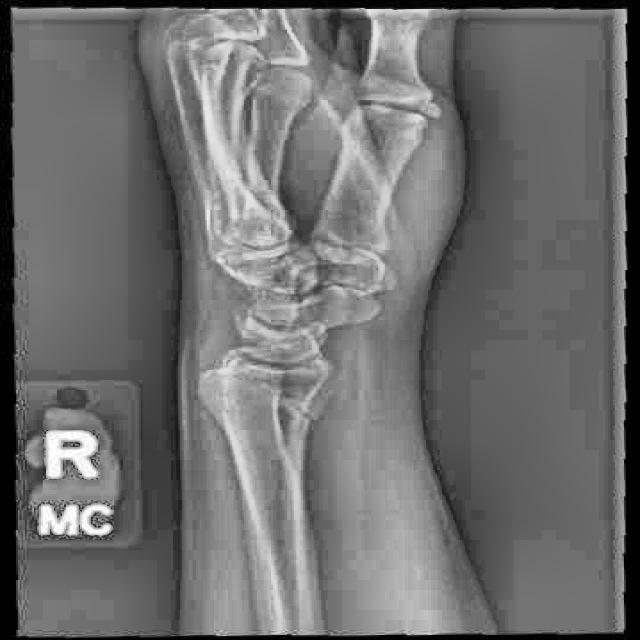fingers positive: (195, 368, 351, 438)
